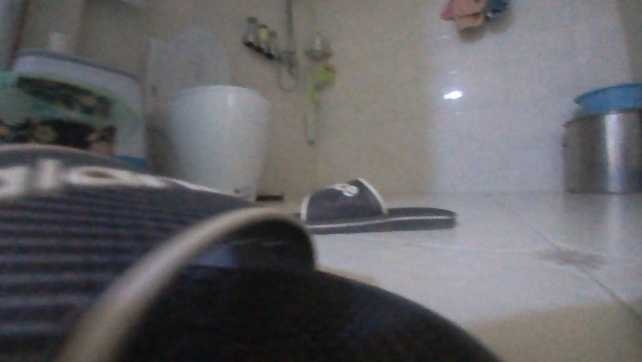slipper: (290, 173, 460, 234)
toilet: (140, 25, 275, 203)
